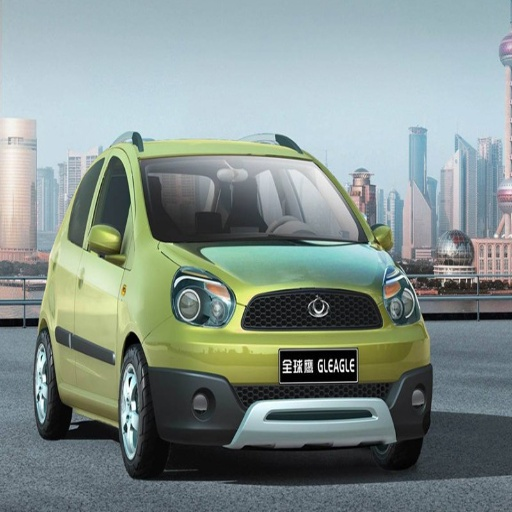front_bumper: (149, 284, 430, 447)
front_left_light: (386, 276, 416, 322)
front_right_door: (75, 146, 136, 398)
front_right_light: (173, 273, 236, 325)
hood: (161, 242, 398, 291)
